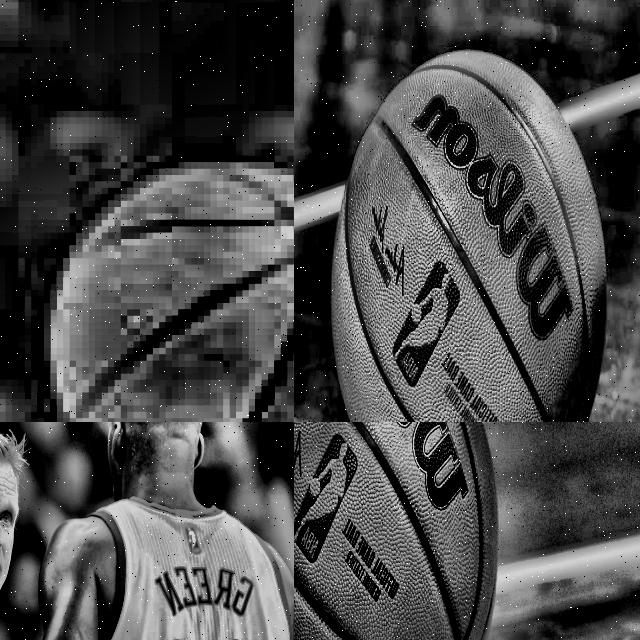Basketball: (331, 50, 606, 422), (44, 162, 294, 422), (294, 422, 498, 640)
